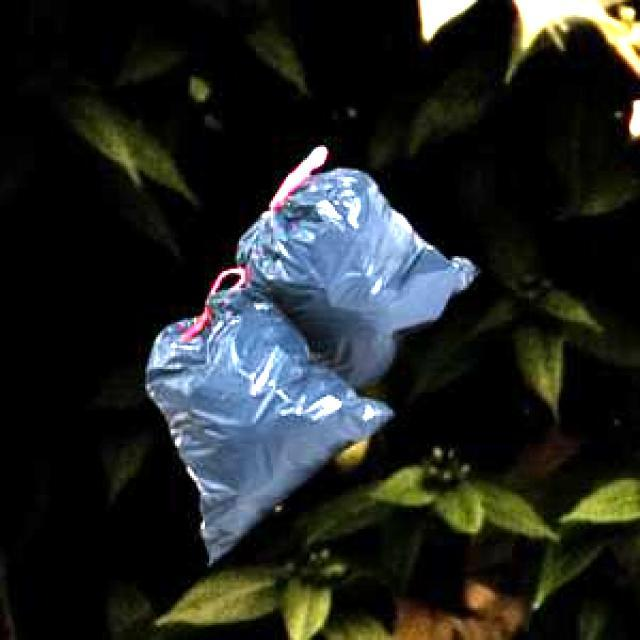Garbage_Bag: (144, 144, 477, 560)
